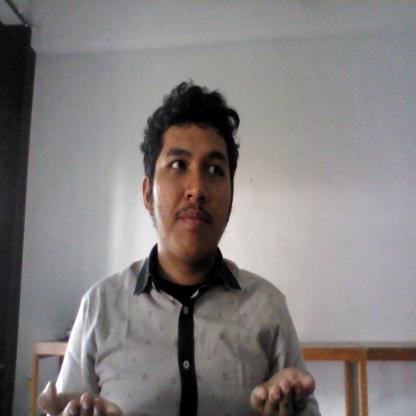Apa: (35, 361, 329, 416)
